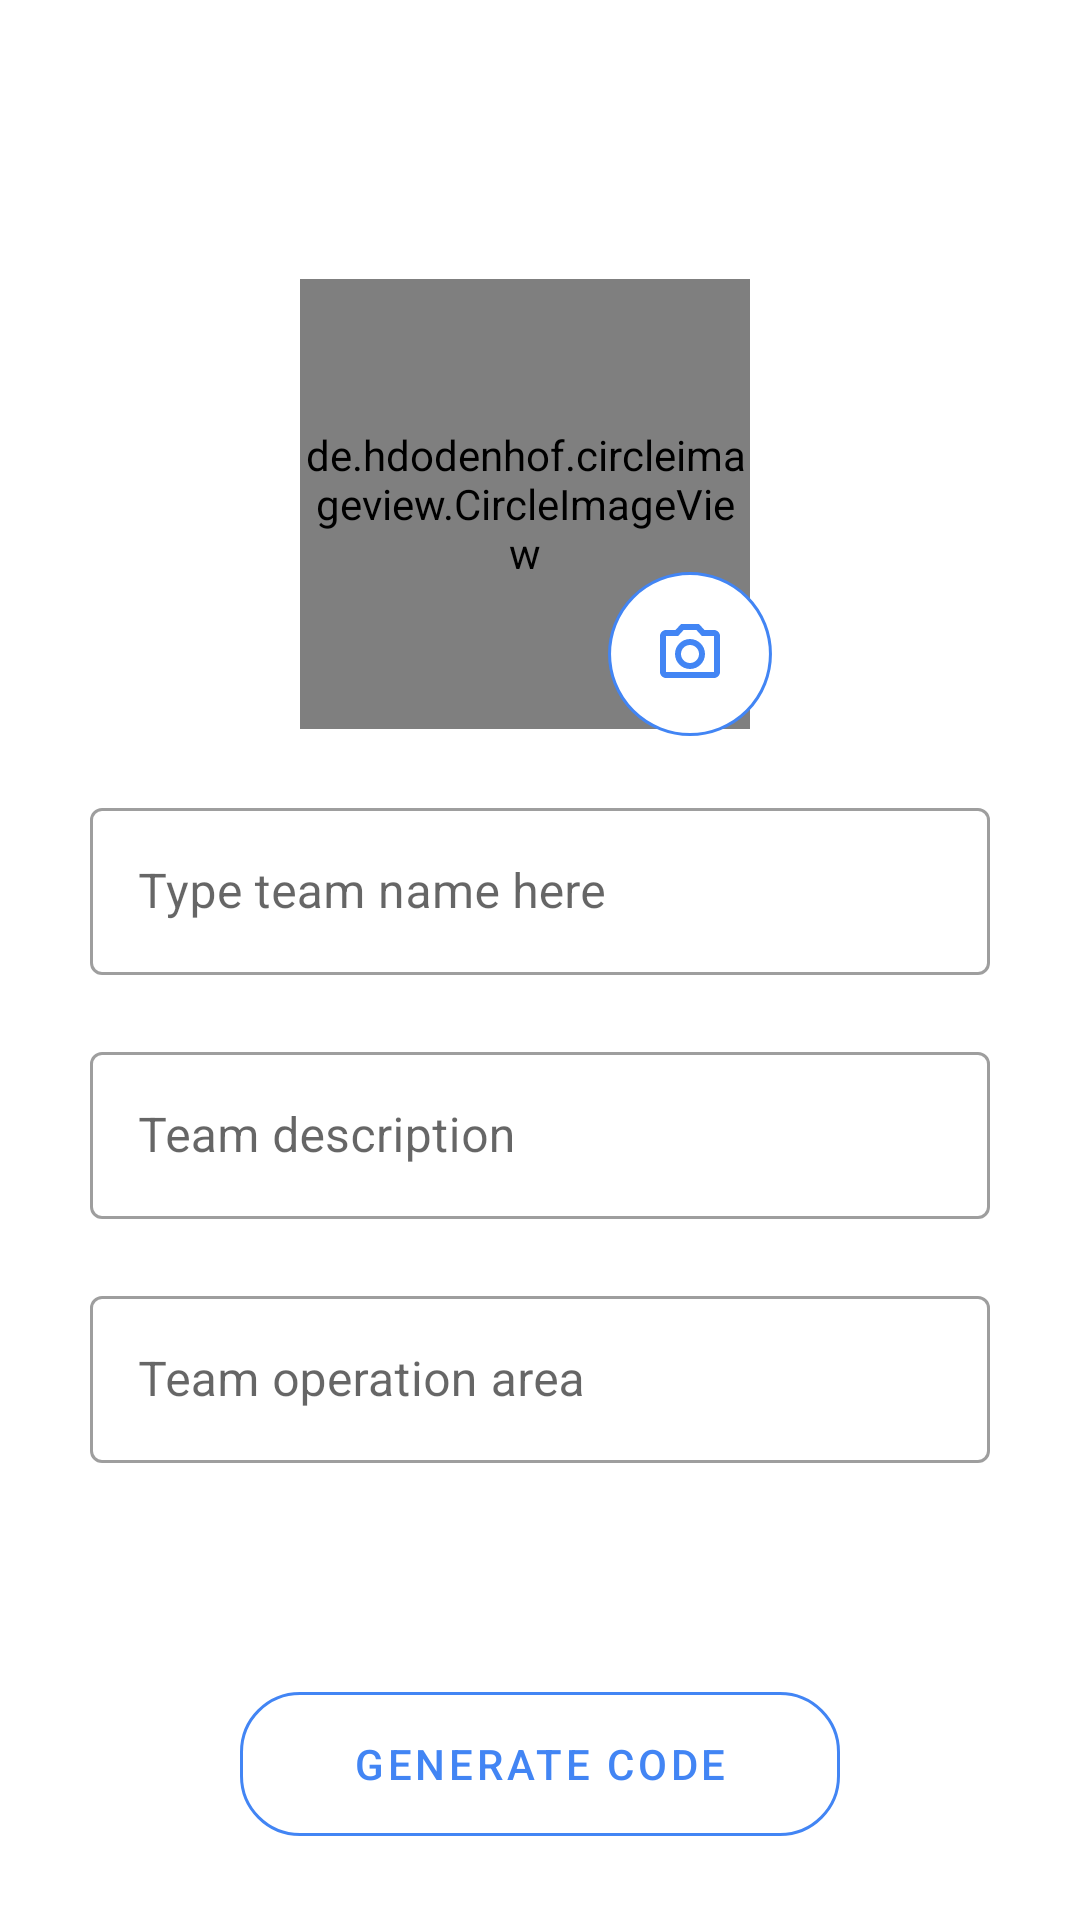

Where to tap for icons on this 1080w x 1920h app screen, as point (x, y):
camera: point (690, 654)
